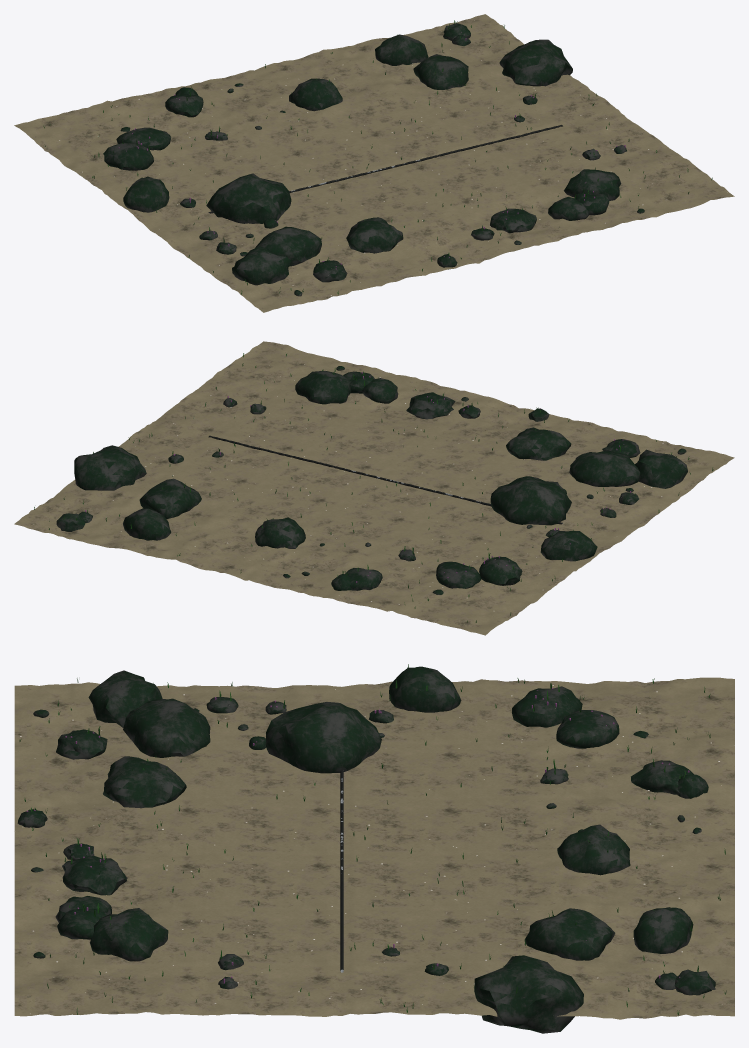
File: cablecut_world.glb
The picture shows the model from 3 angles, top to bottom: view 1: azimuth 30°, elevation 25°; view 2: azimuth 150°, elevation 25°; view 3: azimuth 270°, elevation 25°; orthographic projection. The views are drawn at different scales.
Parts seen in each view (by area): view 1: seabed, rocks, algae; view 2: seabed, rocks, algae; view 3: seabed, rocks, algae.
Part boxes in pixels (x1,y1,x2,y2): seabed: [14, 14, 734, 312]; rocks: [103, 23, 644, 296]; algae: [43, 20, 712, 294]; seabed: [14, 341, 734, 635]; rocks: [56, 366, 687, 594]; algae: [34, 353, 713, 622]; seabed: [14, 677, 734, 1019]; rocks: [17, 666, 715, 1033]; algae: [19, 664, 726, 1015].
Bounding box in the file's own units: 24.44 × 2.46 × 22.02.
13 materials, 13 textured.
